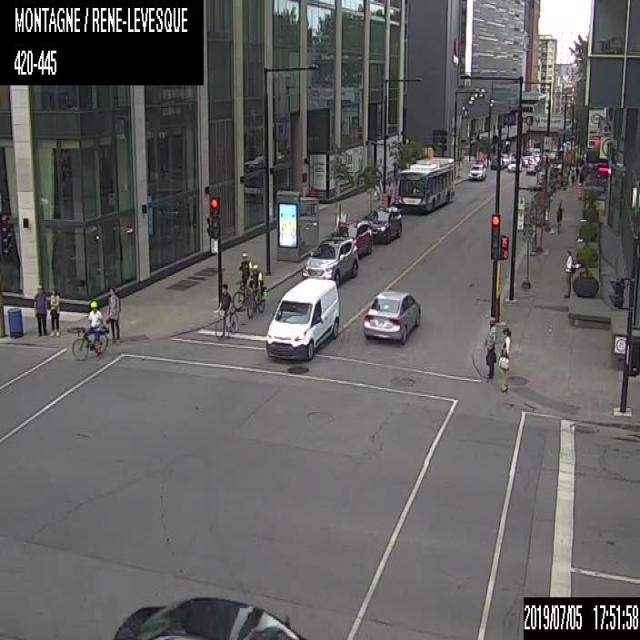bus: (396, 157, 455, 213)
construction: (576, 181, 581, 199), (381, 191, 385, 204)
cyclist: (71, 300, 111, 360), (233, 251, 257, 308), (214, 281, 236, 340), (246, 259, 267, 318)
pedestrian: (497, 326, 510, 391), (484, 315, 497, 379), (105, 287, 119, 341), (32, 282, 46, 335), (562, 250, 574, 298), (48, 288, 59, 336), (555, 199, 562, 232)
vehicle: (112, 593, 303, 639), (265, 276, 340, 360), (363, 287, 421, 340), (302, 235, 358, 288), (328, 219, 372, 258), (364, 205, 402, 243), (466, 161, 486, 180), (507, 156, 521, 171), (490, 158, 502, 170), (526, 162, 536, 174)
